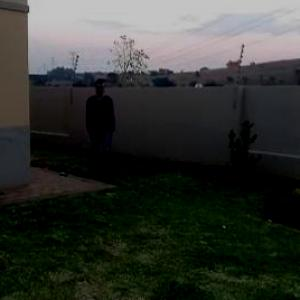follow: (84, 76, 121, 189)
